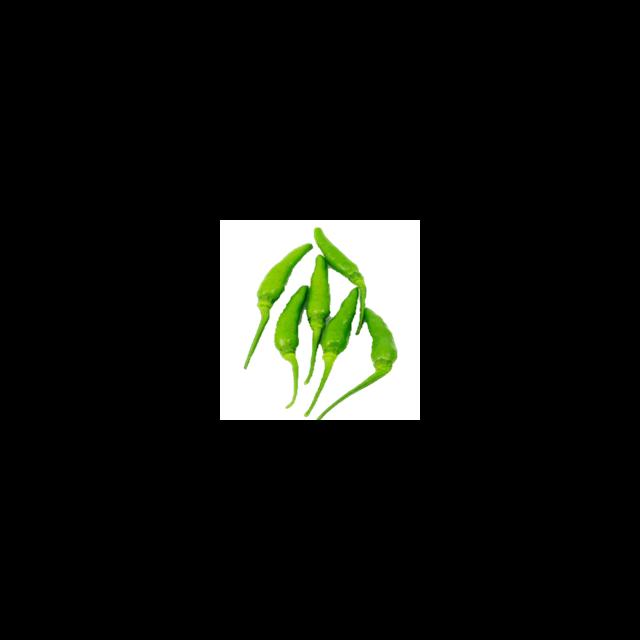chili_pepper: (318, 309, 398, 420), (244, 244, 313, 370), (305, 288, 358, 416), (315, 228, 367, 330), (275, 286, 308, 404), (305, 255, 330, 384)
